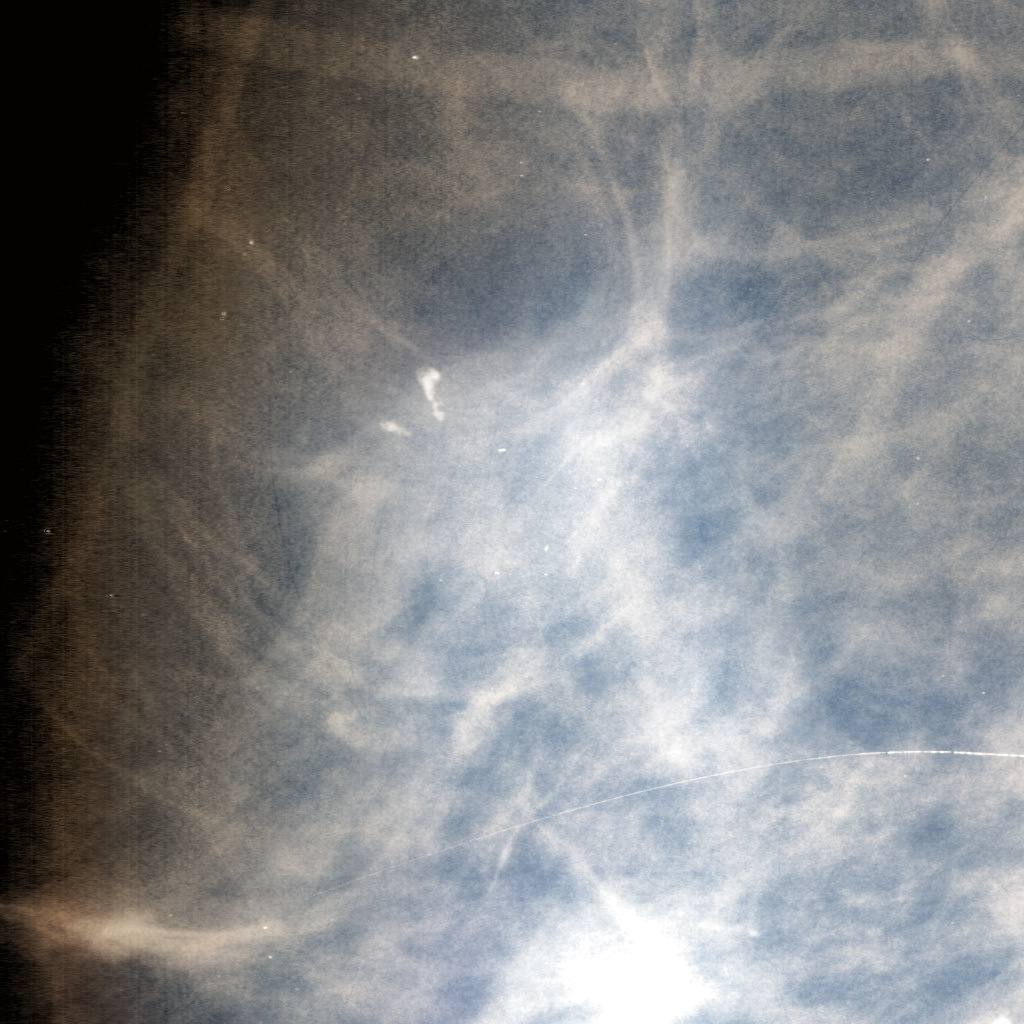tumor: (302, 292, 722, 732)
